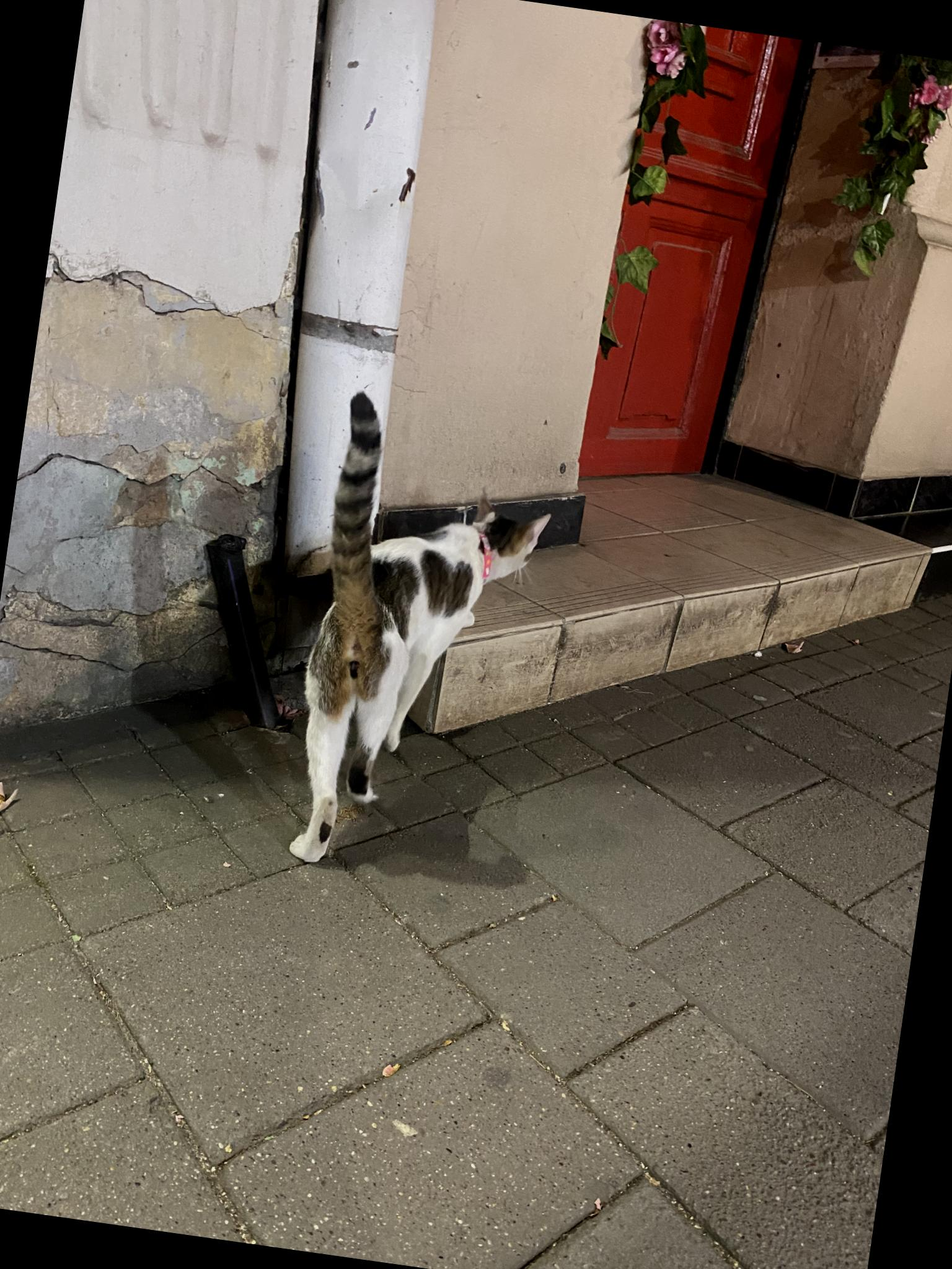macka: (280, 389, 566, 892)
